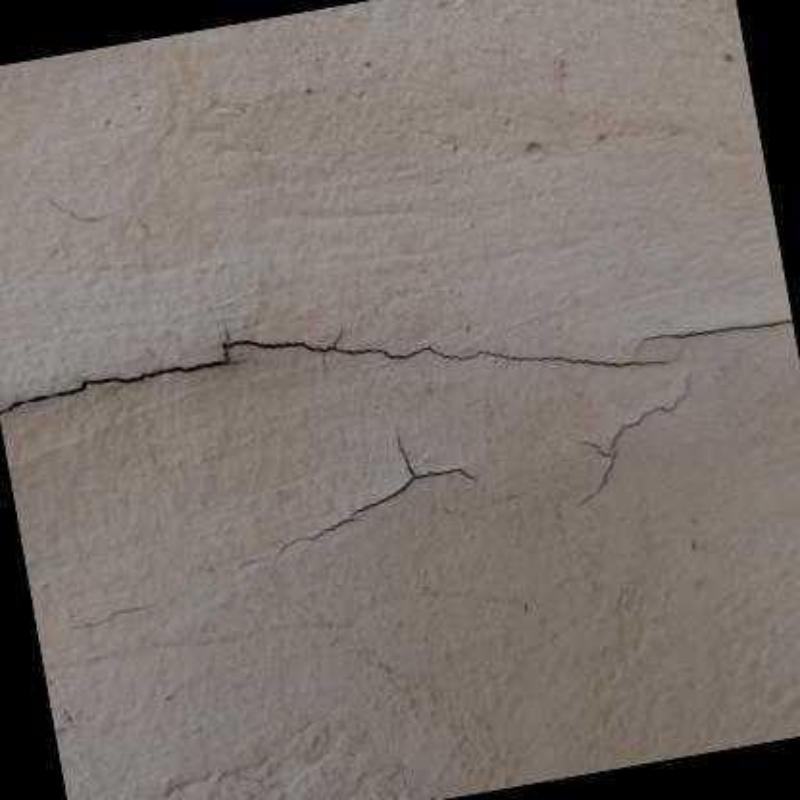pothole: (10, 337, 673, 411), (277, 435, 477, 558), (573, 371, 694, 508), (631, 312, 793, 348)
